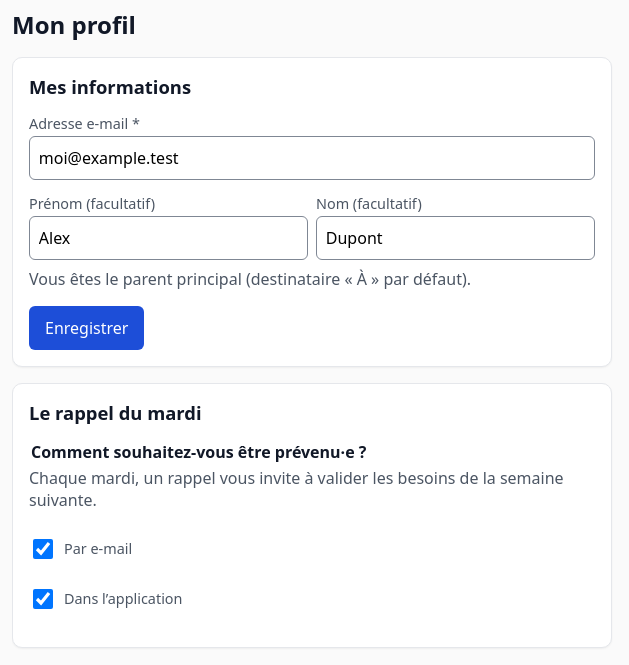
Test: MonProfilPage › enregistre mes informations (PUT parent, statut principal conservé)
The width and height of the screenshot is (629, 665).
Replace the text in the field labelled "Adresse e-mail *" with "nouveau@example.test" at coordinates (312, 158), box [29, 136, 595, 180]
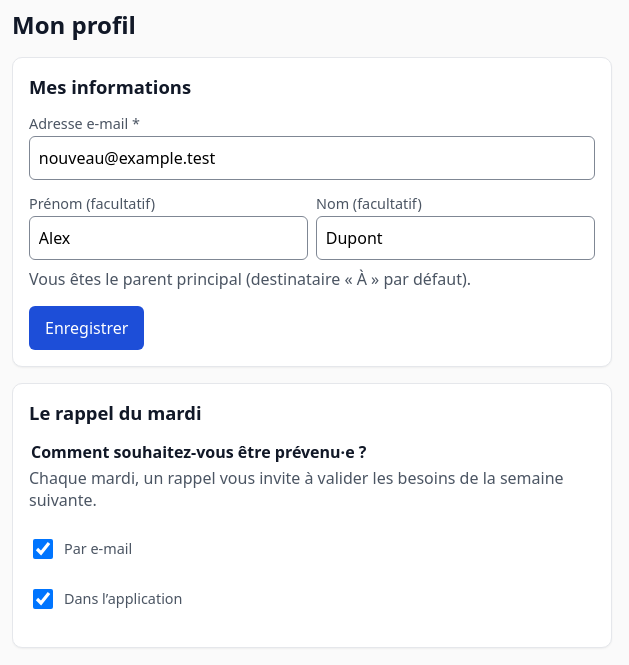
Click the button "Enregistrer" at coordinates (87, 328), box [29, 306, 144, 350]
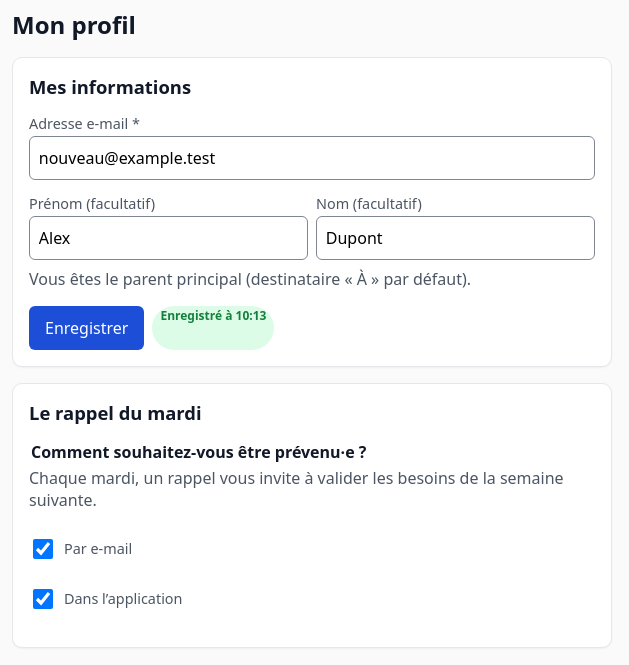
Expected: the text "Enregistré à 10:13" is shown, [152, 306, 274, 350]
